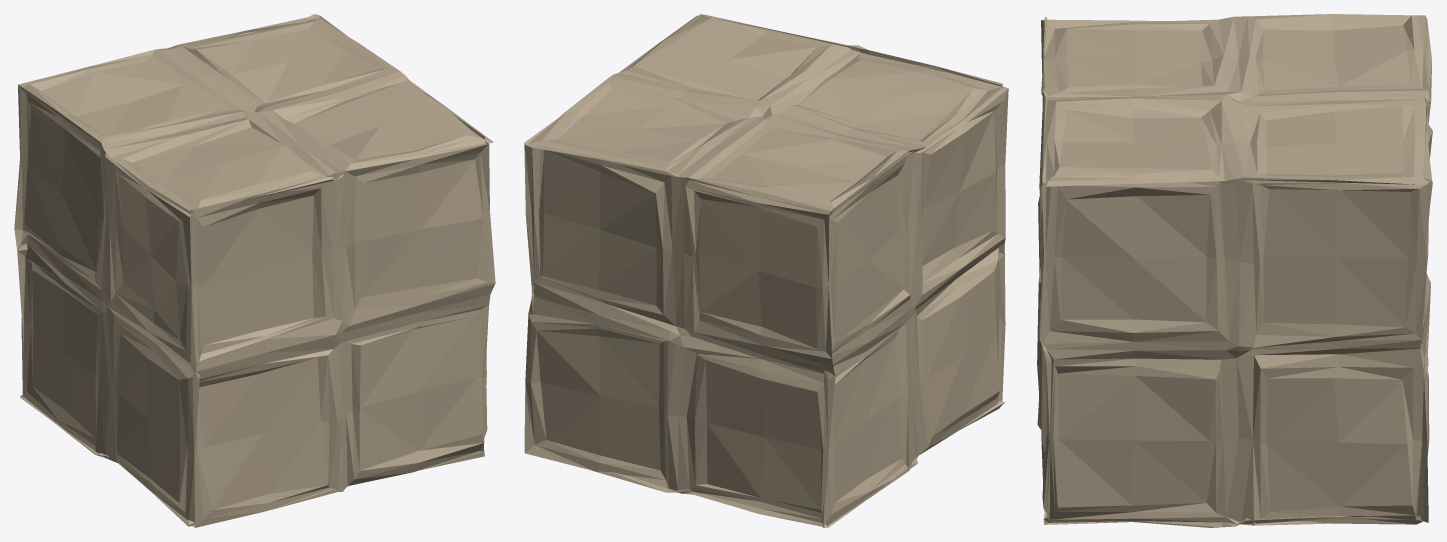
The model's file is SM_PushBlock.fbx.
3 renders of one model, left to right at view 1: azimuth 30°, elevation 25°; view 2: azimuth 150°, elevation 25°; view 3: azimuth 270°, elevation 25°, orthographic. The views are drawn at different scales.
Parts seen in each view (by area): view 1: SM_PushBlock; view 2: SM_PushBlock; view 3: SM_PushBlock.
Part boxes in pixels (x1=…): SM_PushBlock: x1=14, y1=14, x2=495, y2=527; SM_PushBlock: x1=524, y1=14, x2=1008, y2=527; SM_PushBlock: x1=1037, y1=14, x2=1432, y2=527.
Bounding box in the file's own units: 0.9814 × 0.9845 × 0.9848.
